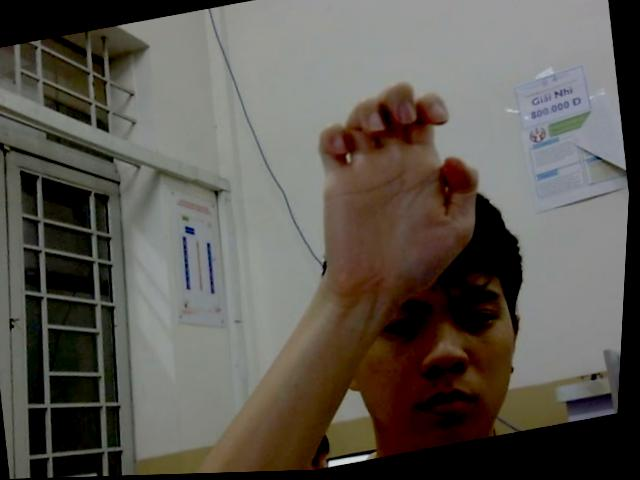E: (296, 69, 502, 313)
